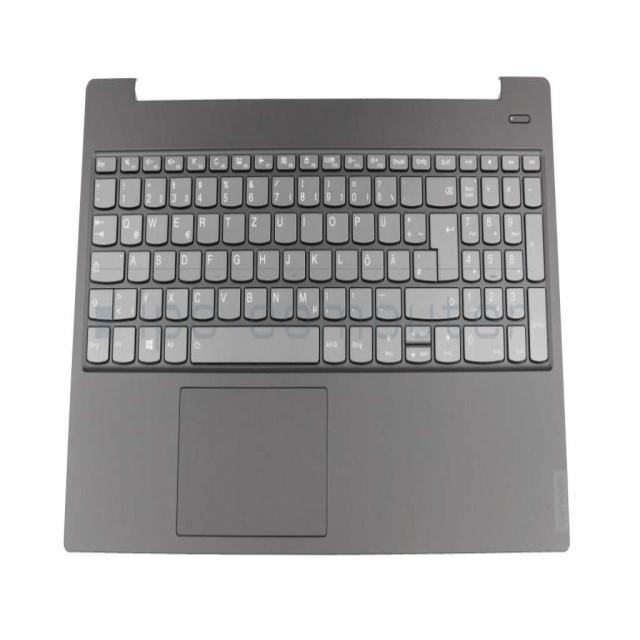0: (347, 173, 370, 204)
1: (117, 174, 139, 206)
2: (142, 174, 165, 205)
3: (167, 173, 190, 205)
4: (193, 173, 215, 205)
5: (218, 173, 241, 204)
6: (244, 172, 266, 204)
7: (269, 172, 292, 204)
8: (295, 172, 318, 204)
9: (321, 173, 345, 204)
a: (126, 247, 148, 281)
accent: (398, 172, 421, 204)
ae: (385, 246, 409, 280)
alt-left: (162, 322, 186, 361)
altgr-right: (321, 322, 345, 361)
b: (241, 283, 266, 318)
c: (189, 284, 213, 318)
caret: (92, 175, 114, 206)
comma: (321, 283, 345, 317)
d: (177, 247, 200, 281)
del: (424, 172, 456, 204)
e: (169, 209, 192, 242)
enter: (428, 208, 457, 280)
f: (203, 247, 226, 280)
g: (228, 247, 252, 280)
h: (254, 247, 278, 280)
hash: (411, 246, 435, 280)
i: (298, 209, 321, 241)
j: (281, 246, 304, 280)
k: (307, 246, 331, 280)
keyboard: (77, 142, 555, 374)
l: (333, 246, 356, 280)
less: (111, 284, 136, 317)
m: (294, 283, 318, 318)
minus: (372, 284, 400, 317)
n: (268, 284, 292, 317)
o: (324, 209, 347, 242)
oe: (359, 246, 383, 280)
p: (350, 209, 372, 241)
plus: (402, 209, 425, 241)
point: (346, 283, 371, 317)
q: (118, 210, 141, 243)
r: (195, 210, 218, 242)
s: (152, 247, 175, 281)
shift-left: (86, 284, 111, 317)
shift-lock: (88, 247, 123, 281)
shift-right: (403, 283, 459, 317)
space: (188, 322, 319, 362)
ss: (372, 172, 395, 204)
strg-left: (86, 324, 110, 363)
strg-right: (348, 324, 372, 363)
t: (221, 210, 243, 242)
tab: (90, 211, 115, 243)
u: (272, 209, 296, 242)
ue: (375, 209, 399, 242)
v: (216, 283, 240, 317)
w: (143, 210, 166, 242)
x: (164, 284, 187, 318)
y: (138, 284, 162, 317)
z: (247, 209, 270, 242)
